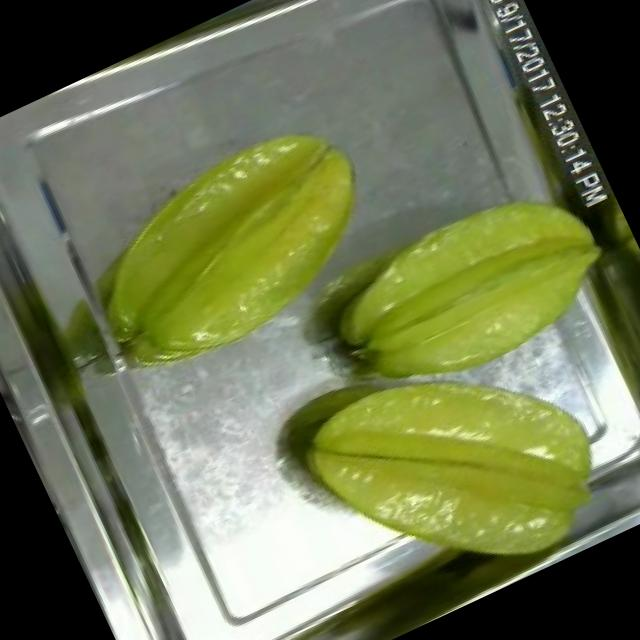fruit: (272, 292, 640, 640), (44, 88, 418, 404), (298, 148, 640, 436), (543, 214, 640, 480)
